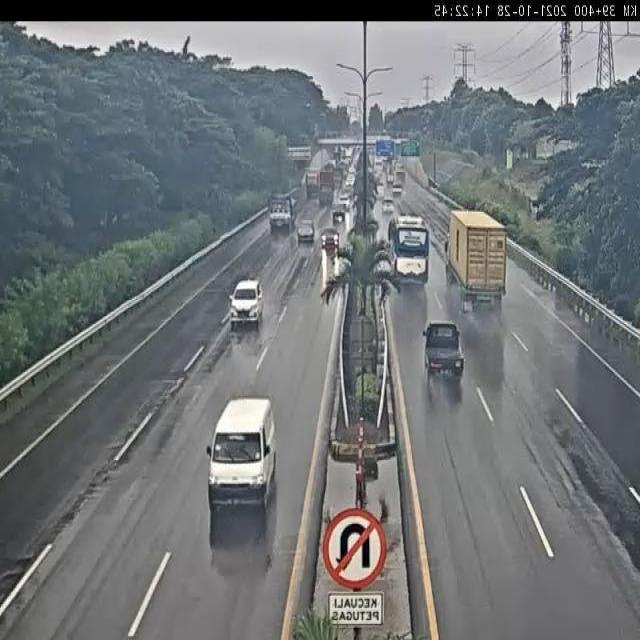Bus: (388, 214, 430, 287), (395, 162, 405, 184)
Car: (422, 322, 464, 378), (228, 277, 264, 327), (320, 226, 340, 254), (296, 218, 316, 244), (338, 192, 351, 212), (382, 198, 393, 215), (345, 173, 356, 190)
Truck: (446, 210, 508, 312), (268, 192, 295, 232), (318, 165, 337, 205), (305, 170, 320, 198), (392, 185, 402, 197)
Van: (207, 395, 277, 516)
